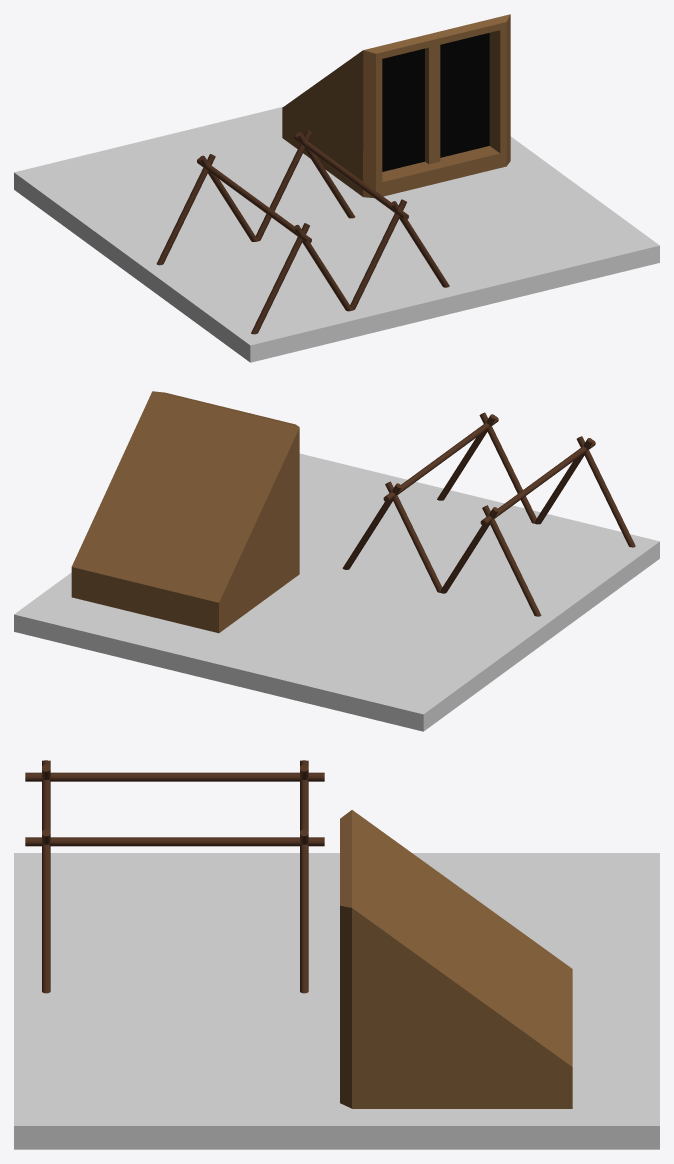
Rendered from FiberPlantation.fbx.
3 views of the same model, one above another, from view 1: azimuth 30°, elevation 25°; view 2: azimuth 150°, elevation 25°; view 3: azimuth 270°, elevation 25° (orthographic). The views are drawn at different scales.
Parts seen in each view (by area): view 1: Cube, Cube.001, Cylinder.002, Cylinder.001; view 2: Cube, Cube.001, Cylinder.002, Cylinder.001; view 3: Cube, Cube.001, Cylinder.001, Cylinder.002.
Boxes of the visible parts, x1,y1,x2,y2 form: Cube: [14, 106, 659, 362]; Cube.001: [282, 14, 510, 198]; Cylinder.002: [156, 154, 351, 334]; Cylinder.001: [255, 130, 449, 310]; Cube: [14, 453, 659, 731]; Cube.001: [71, 391, 299, 633]; Cylinder.002: [440, 436, 635, 616]; Cylinder.001: [342, 412, 536, 592]; Cube: [14, 853, 659, 1149]; Cube.001: [340, 810, 572, 1108]; Cylinder.001: [25, 825, 324, 993]; Cylinder.002: [25, 760, 324, 825].
Size of the model in its own units: 1602 by 614 by 1602.
